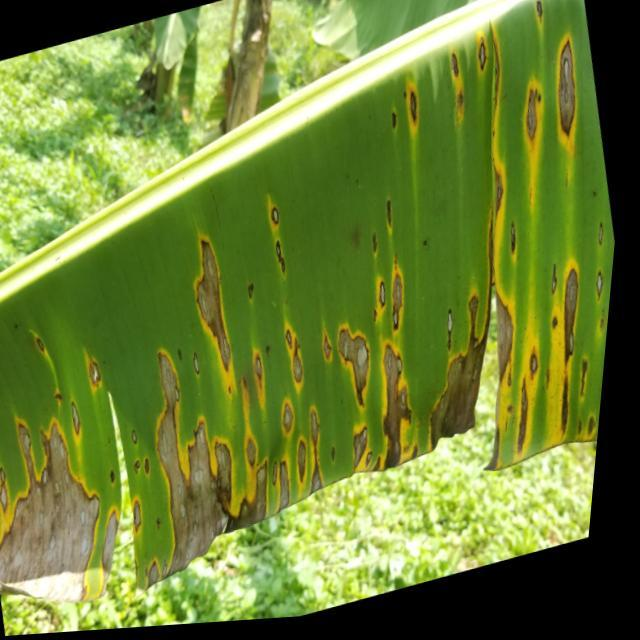Early_rust: (0, 6, 603, 532)
